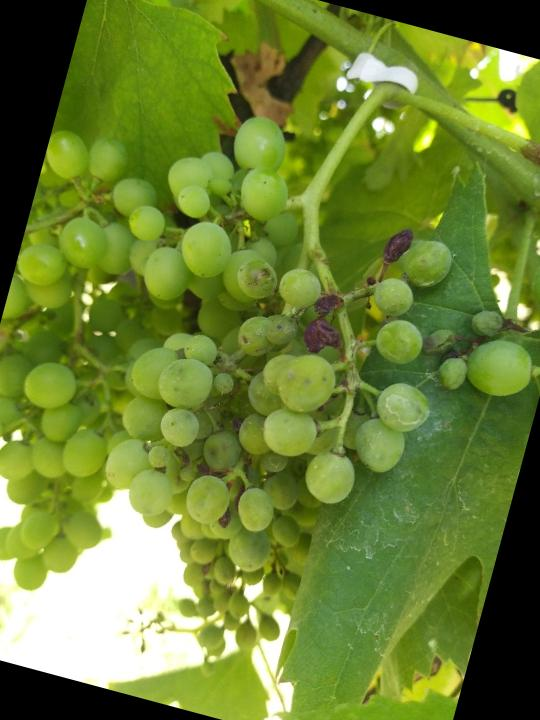grape: (48, 87, 496, 609)
